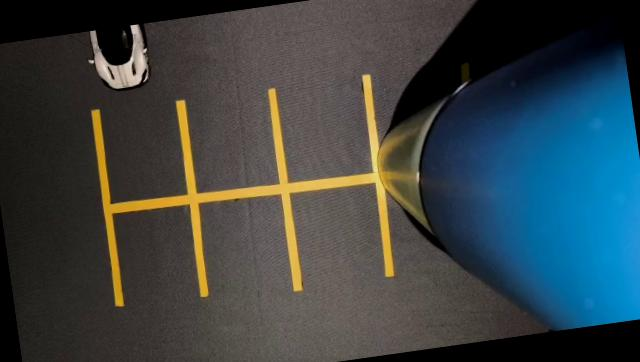toy_car: (66, 19, 182, 123)
